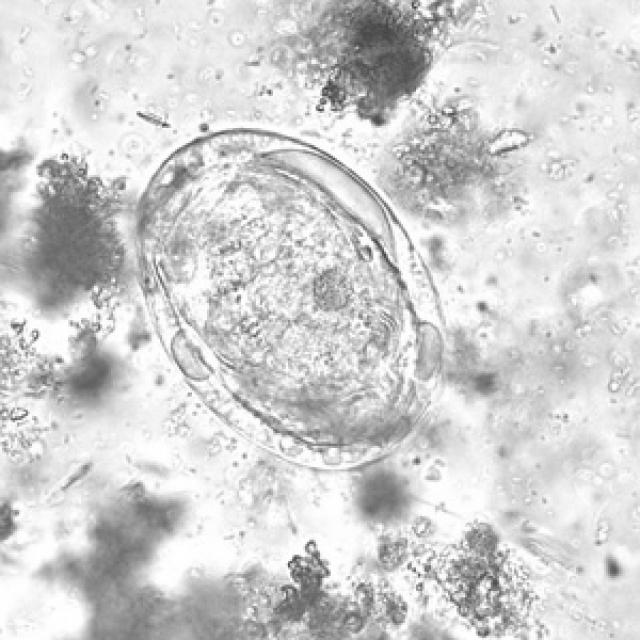Schistosoma: (120, 124, 445, 480)
